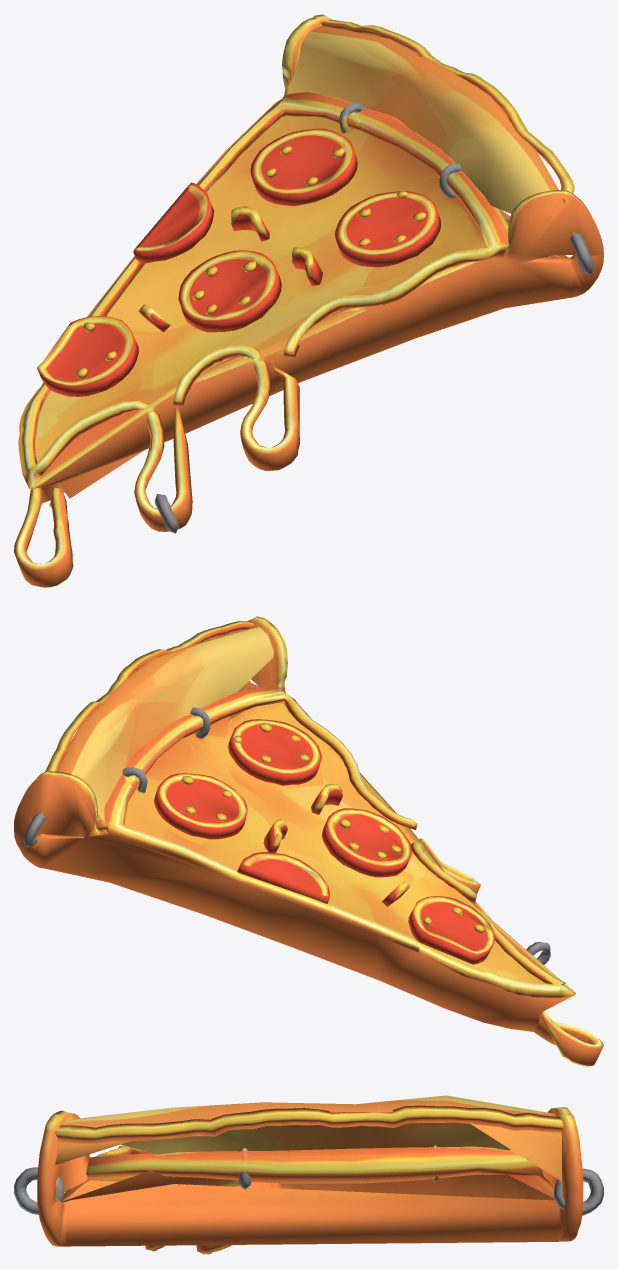
Rendered from selected.glb.
3 renders of one model, top to bottom at view 1: azimuth 30°, elevation 25°; view 2: azimuth 150°, elevation 25°; view 3: azimuth 270°, elevation 25°, orthographic. The views are drawn at different scales.
Parts seen in each view (by area): view 1: tripo_node_2b7721b3-4ac5-4f2d-98ba-2b6711302036; view 2: tripo_node_2b7721b3-4ac5-4f2d-98ba-2b6711302036; view 3: tripo_node_2b7721b3-4ac5-4f2d-98ba-2b6711302036.
Part boxes in pixels (<box>): tripo_node_2b7721b3-4ac5-4f2d-98ba-2b6711302036: <box>14,14,603,587</box>; tripo_node_2b7721b3-4ac5-4f2d-98ba-2b6711302036: <box>14,616,603,1066</box>; tripo_node_2b7721b3-4ac5-4f2d-98ba-2b6711302036: <box>14,1095,603,1254</box>.
Bounding box in the file's own units: 0.998 × 0.6895 × 0.9434.
1 material, 1 textured.
